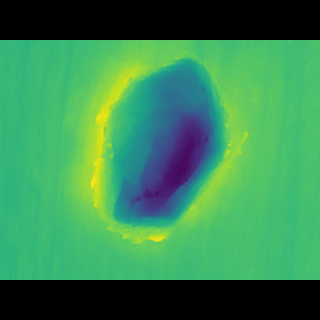Loch: (72, 70, 248, 237)
